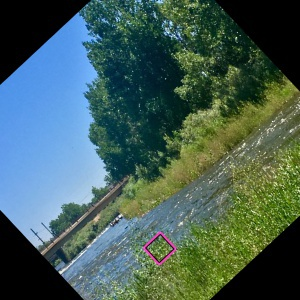square: (142, 230, 177, 266)
